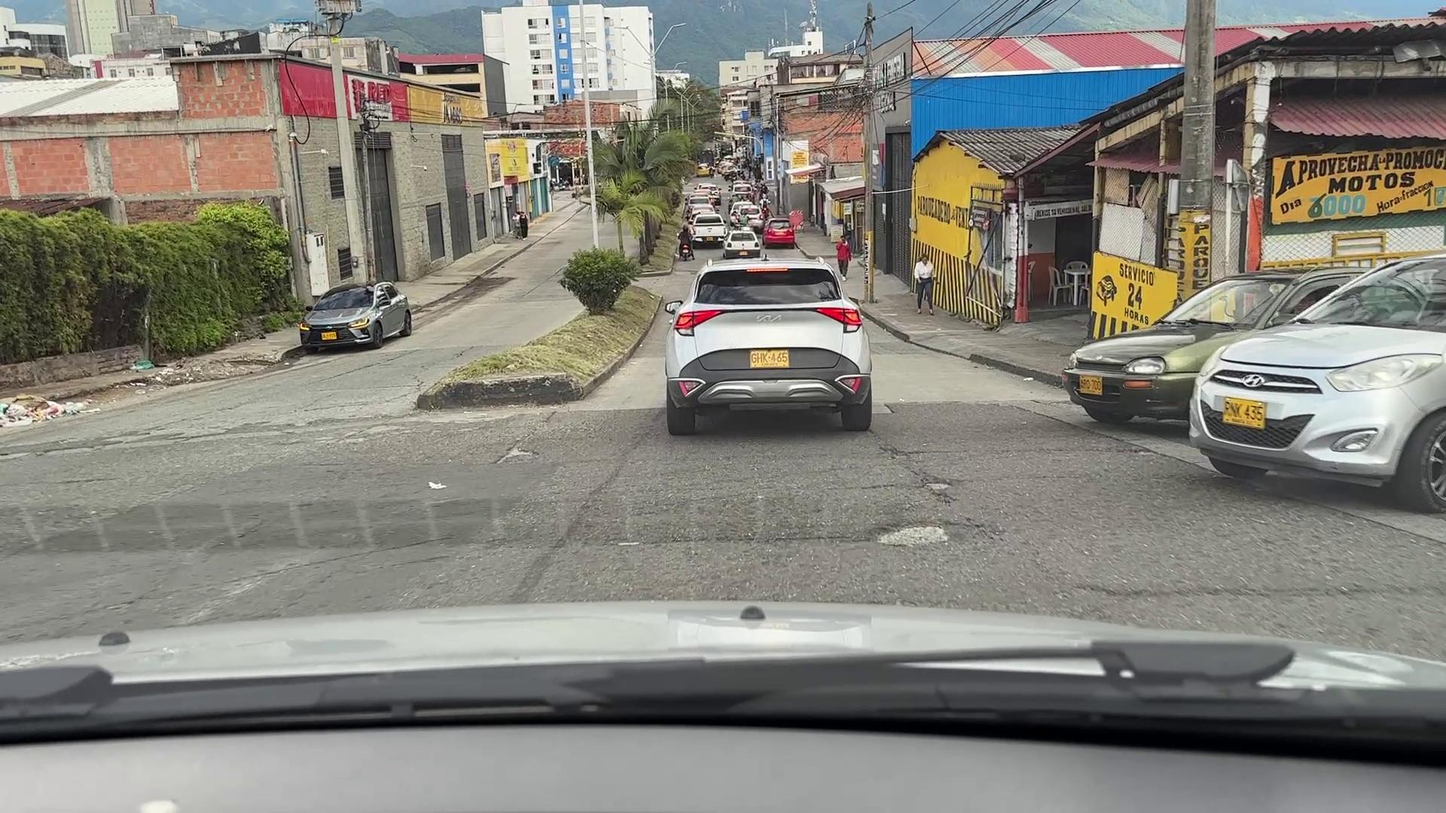bache: (877, 526, 947, 547), (494, 443, 534, 464), (926, 483, 950, 491)
grieta: (868, 429, 957, 484)
